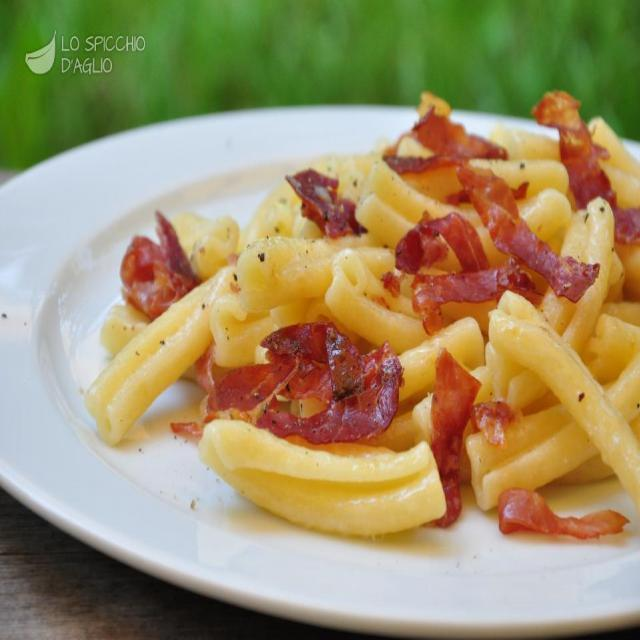Oil pasta: (128, 116, 629, 564)
